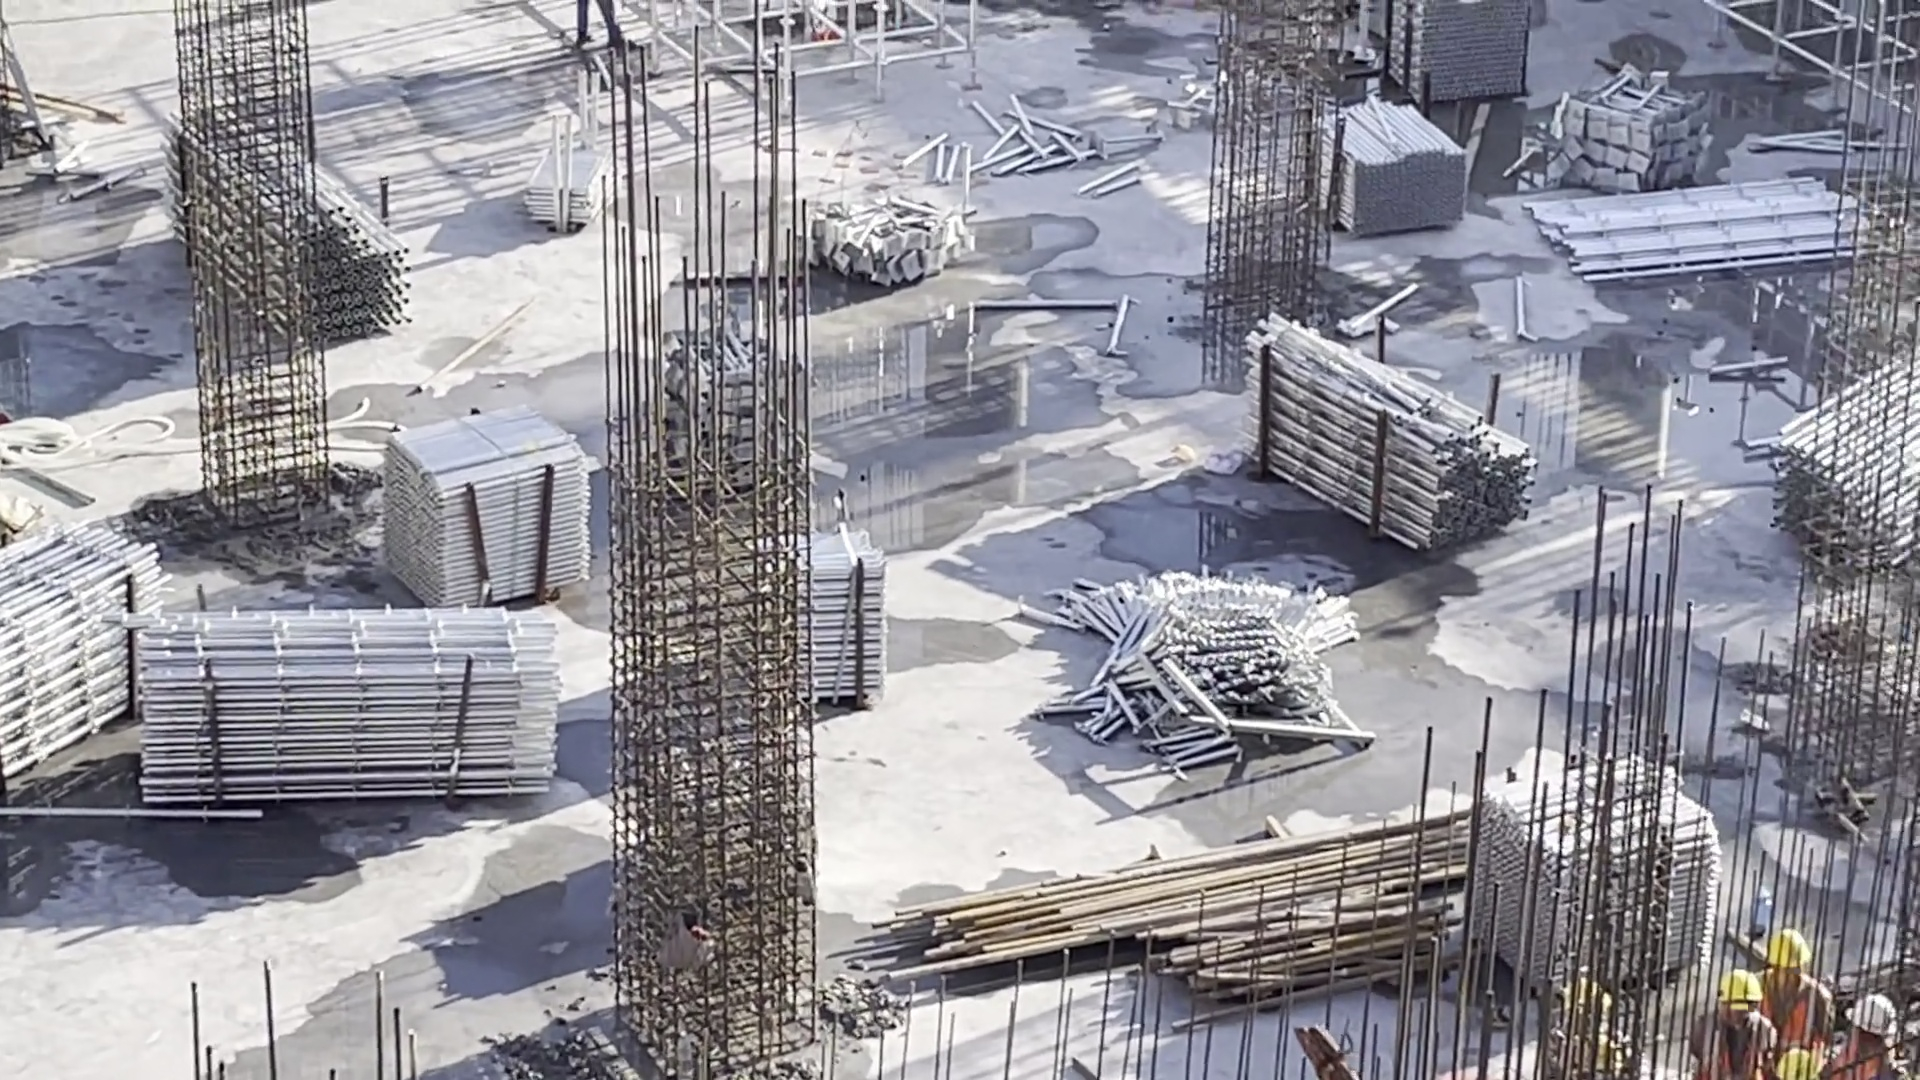helmet: (1846, 994, 1898, 1035), (1721, 975, 1768, 1010), (1768, 932, 1812, 968), (1775, 1046, 1810, 1080)
person: (1748, 930, 1838, 1054), (1683, 970, 1775, 1080), (1816, 994, 1893, 1080), (563, 1, 636, 63)
scaffold: (151, 622, 537, 801), (1068, 564, 1376, 749), (1253, 365, 1488, 545), (388, 409, 588, 615), (184, 129, 393, 323), (1471, 797, 1696, 961), (1, 528, 155, 735), (1799, 345, 1920, 568), (1558, 186, 1864, 269), (768, 568, 879, 696), (1331, 121, 1460, 232), (1414, 1, 1531, 104), (541, 140, 623, 231)
vest: (1692, 1016, 1767, 1080), (1766, 979, 1819, 1044), (1838, 1043, 1872, 1080)
